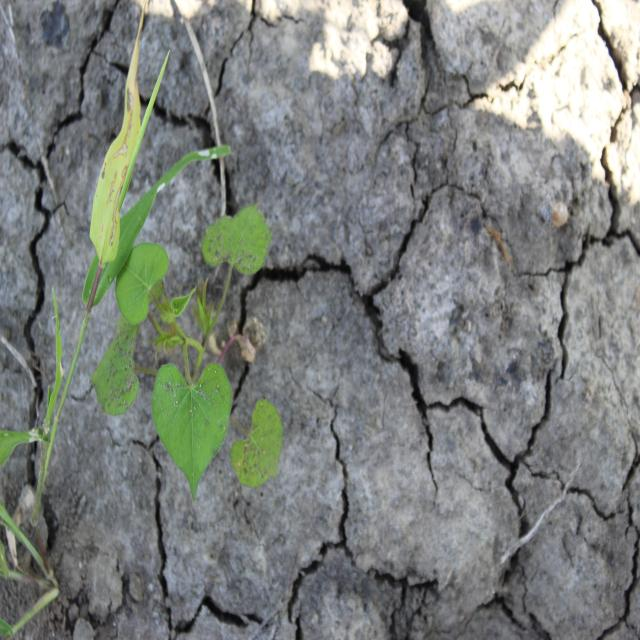MorningGlory: (91, 203, 284, 508)
